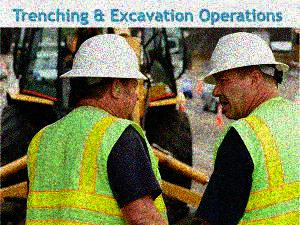helmet: (59, 33, 148, 119), (203, 32, 291, 117)
